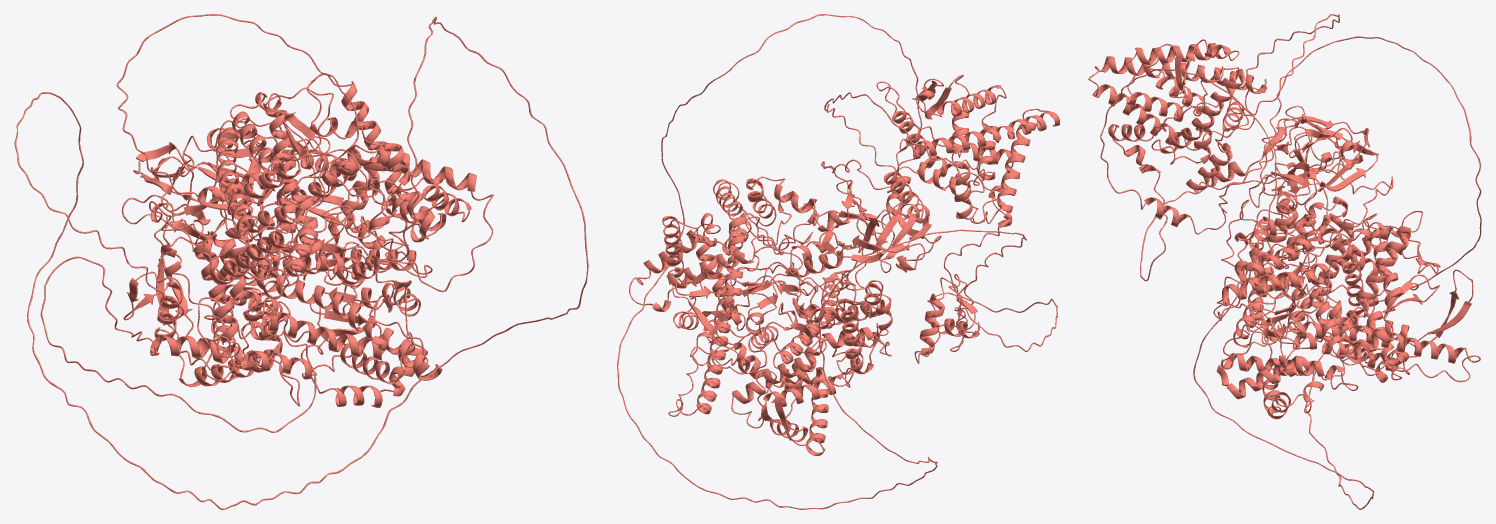
3 renders of one model, left to right at view 1: azimuth 30°, elevation 25°; view 2: azimuth 150°, elevation 25°; view 3: azimuth 270°, elevation 25°, orthographic. The views are drawn at different scales.
Bounding box in the file's own units: 136 × 136 × 112.
